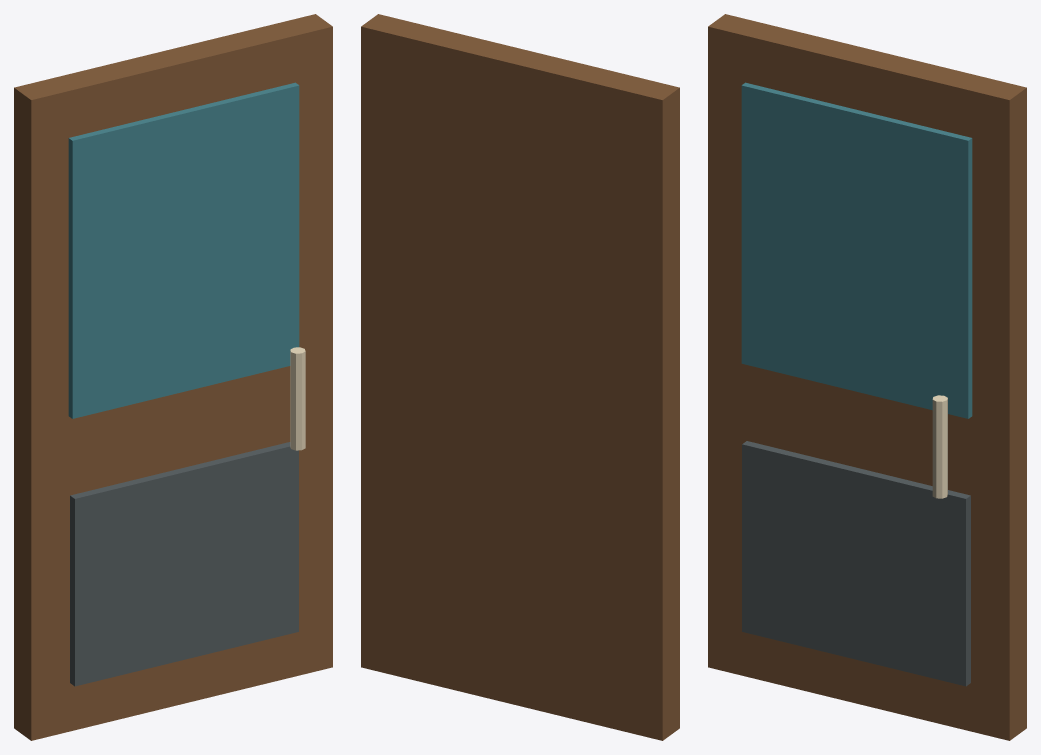
File: SM_Dormitory_Door_Left.fbx
The picture shows the model from 3 angles, left to right: view 1: azimuth 30°, elevation 25°; view 2: azimuth 150°, elevation 25°; view 3: azimuth 330°, elevation 25°; orthographic projection.
Visible parts, largest first — view 1: DORM_14_Entry_Door_Left.001; view 2: DORM_14_Entry_Door_Left.001; view 3: DORM_14_Entry_Door_Left.001.
Part boxes in pixels (left/top/right/bottom): DORM_14_Entry_Door_Left.001: left=14, top=14, right=332, bottom=740; DORM_14_Entry_Door_Left.001: left=361, top=14, right=679, bottom=740; DORM_14_Entry_Door_Left.001: left=708, top=14, right=1026, bottom=740.
Size of the model in its own units: 101 by 22.3 by 205.
